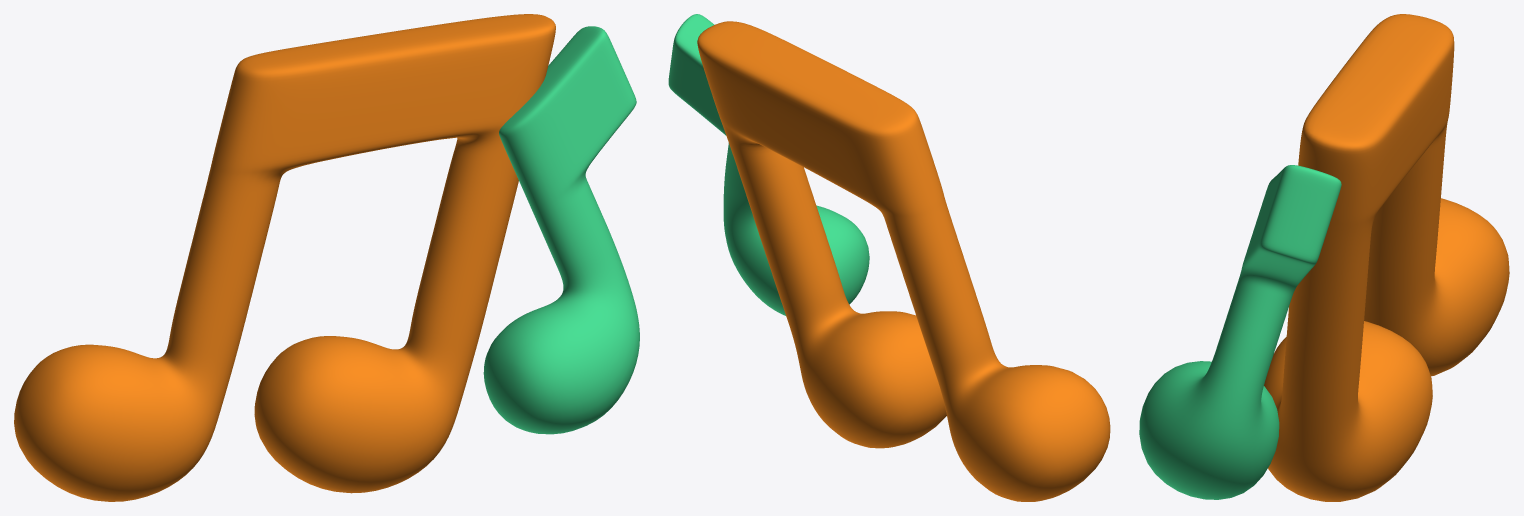
The model's file is Music.glb.
The picture shows the model from 3 angles, left to right: view 1: azimuth 30°, elevation 25°; view 2: azimuth 150°, elevation 25°; view 3: azimuth 270°, elevation 25°; orthographic projection. The views are drawn at different scales.
Visible parts, largest first — view 1: Vert.002, Vert.001; view 2: Vert.002, Vert.001; view 3: Vert.002, Vert.001.
Boxes of the visible parts, <box> form: Vert.002: <box>14,14,555,501</box>; Vert.001: <box>483,26,639,434</box>; Vert.002: <box>697,21,1110,501</box>; Vert.001: <box>668,14,869,315</box>; Vert.002: <box>1264,14,1509,501</box>; Vert.001: <box>1139,165,1341,499</box>.
Size of the model in its own units: 9.22 by 6.89 by 5.09.
